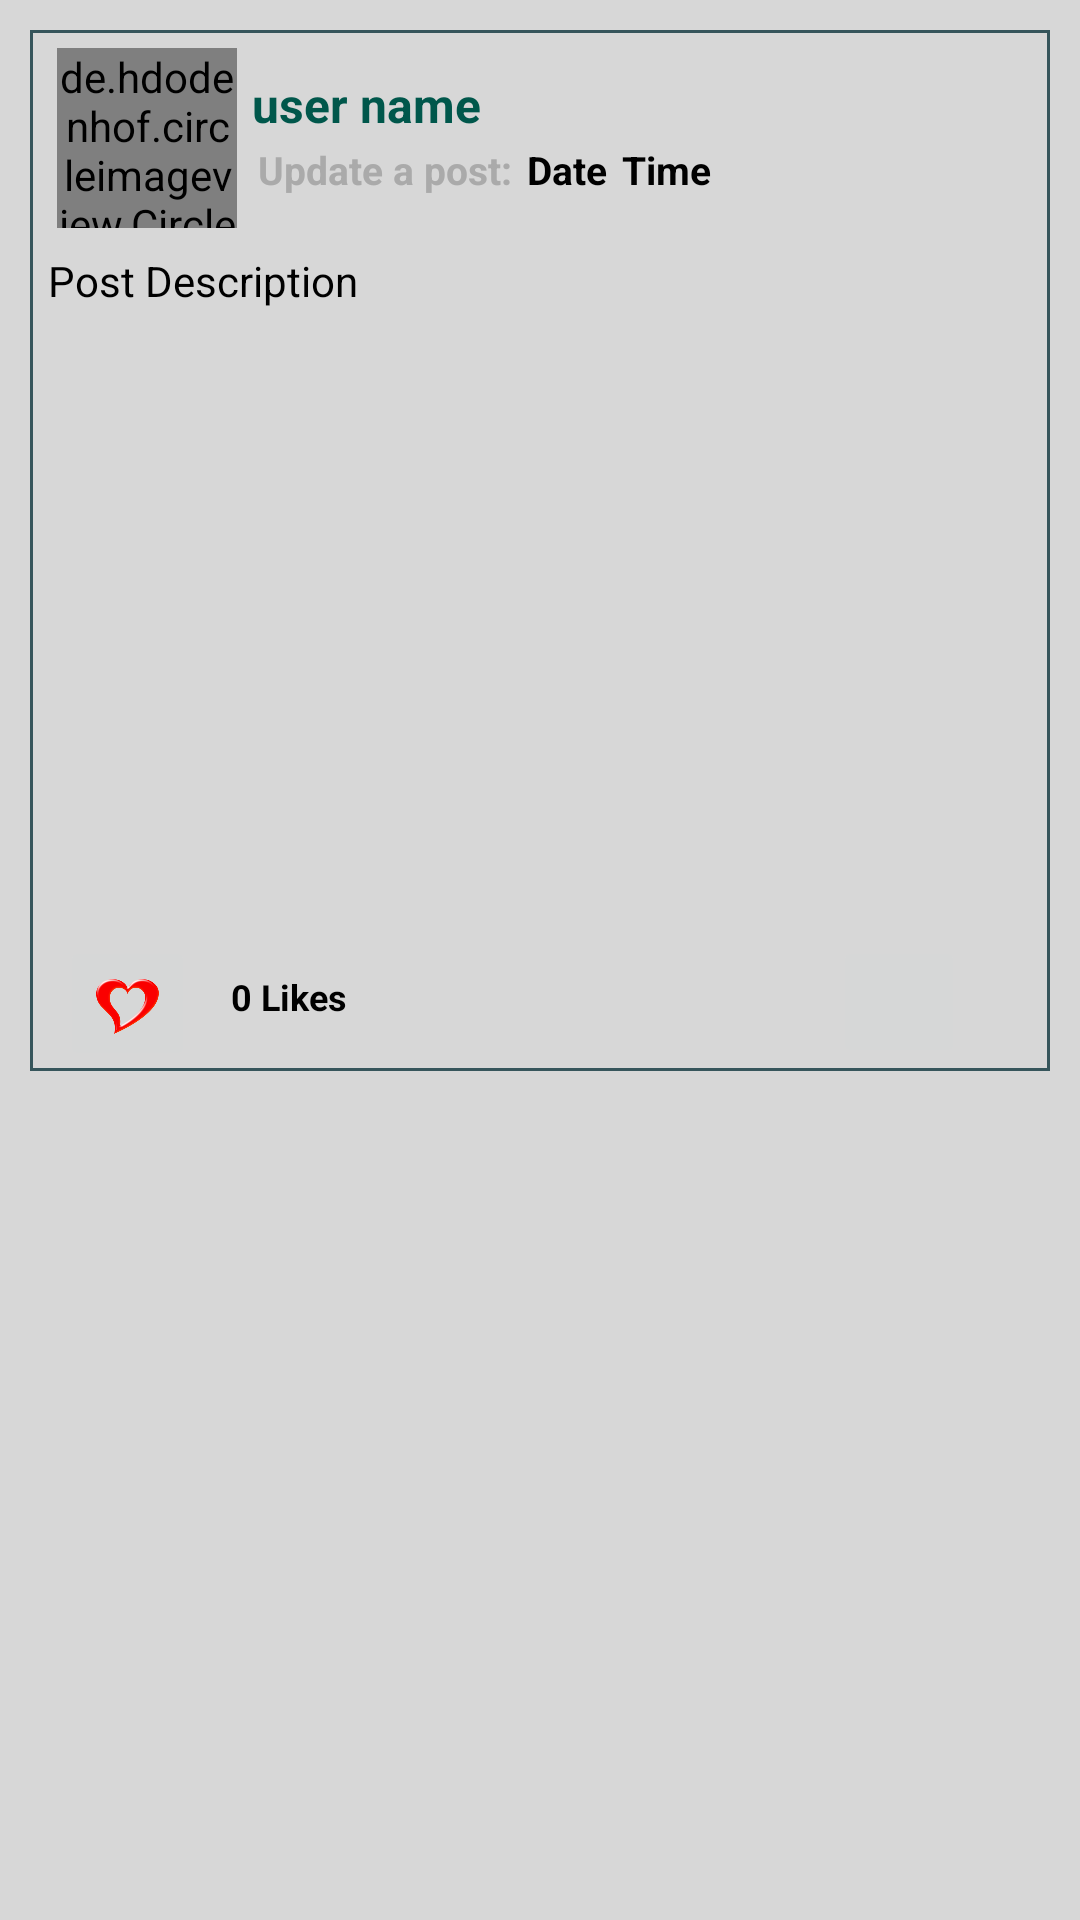

Icons on this 1080 × 1920 Android screen, each with its box as (x1, y1, x2, y2):
love empty: (96, 979, 159, 1034)
